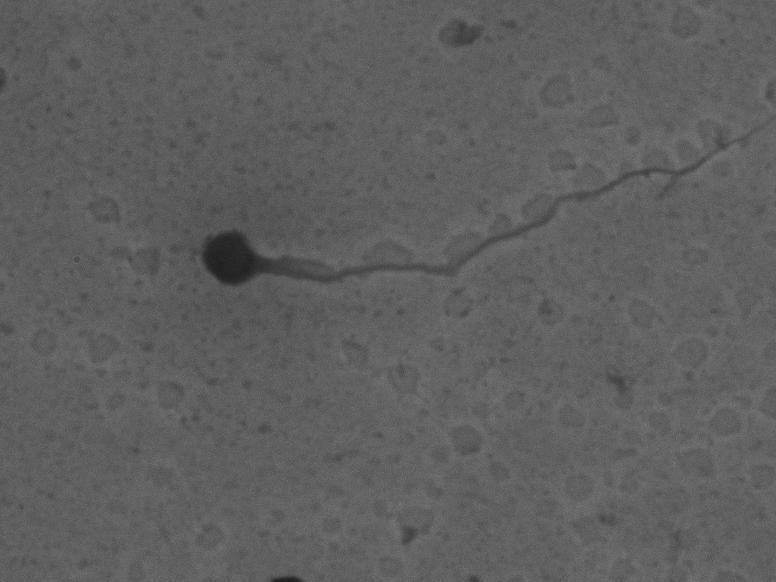Abnormal: (172, 131, 740, 304)
